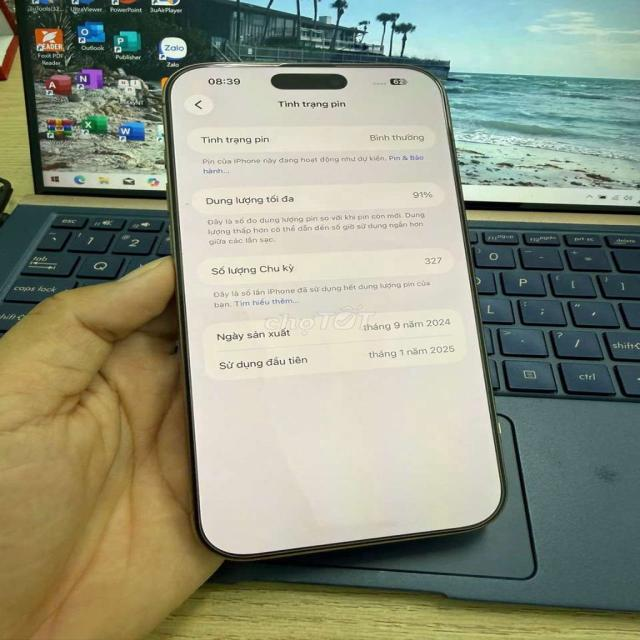gen_16: (163, 58, 505, 558)
